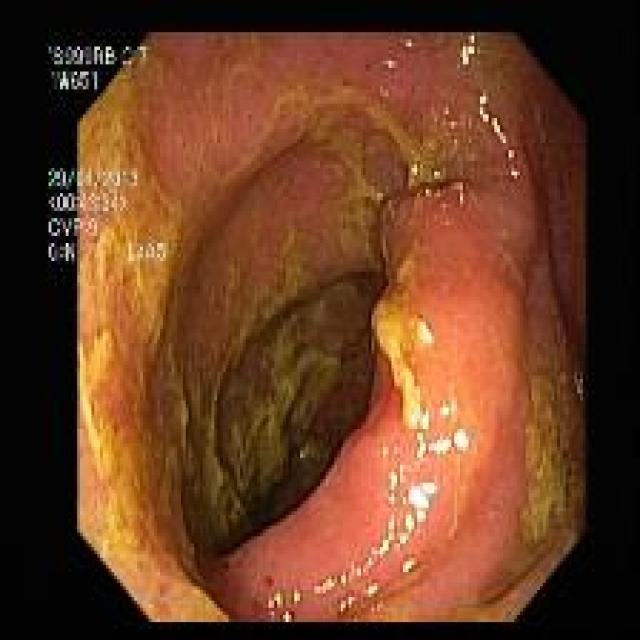ulcerative-colitis: (79, 33, 586, 623)
